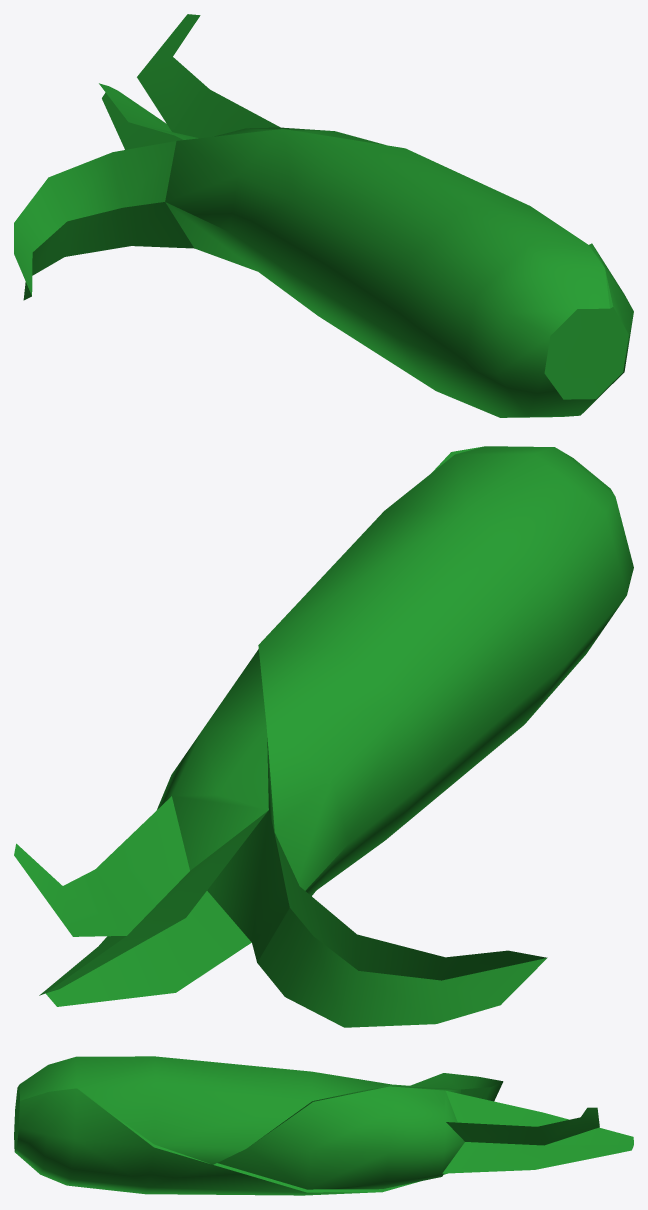
The model's file is SM_Corn_Cob.fbx.
3 views of the same model, one above another, from view 1: azimuth 30°, elevation 25°; view 2: azimuth 150°, elevation 25°; view 3: azimuth 270°, elevation 25° (orthographic). The views are drawn at different scales.
Visible parts, largest first — view 1: SM_Corn_Cob; view 2: SM_Corn_Cob; view 3: SM_Corn_Cob.
Boxes of the visible parts, bbox=[...] form: SM_Corn_Cob: bbox=[14, 14, 633, 417]; SM_Corn_Cob: bbox=[14, 446, 633, 1027]; SM_Corn_Cob: bbox=[14, 1056, 633, 1195].
Size of the model in its own units: 11.93 by 6.35 by 26.14.
